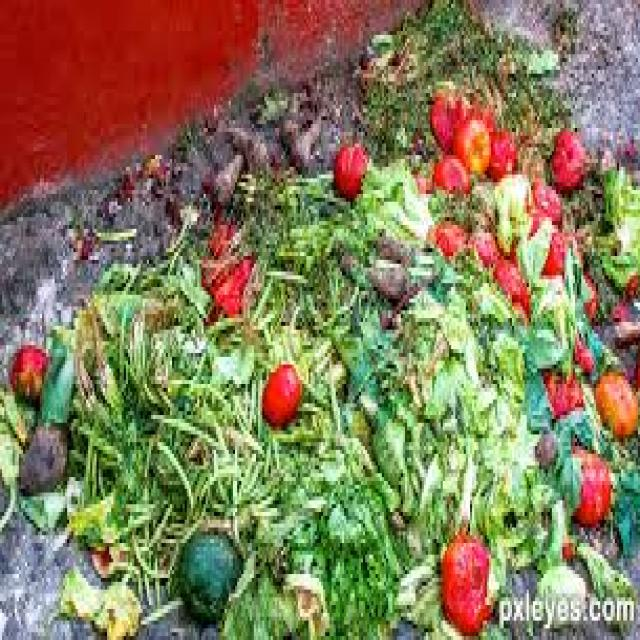food_waste: (0, 0, 638, 636)
